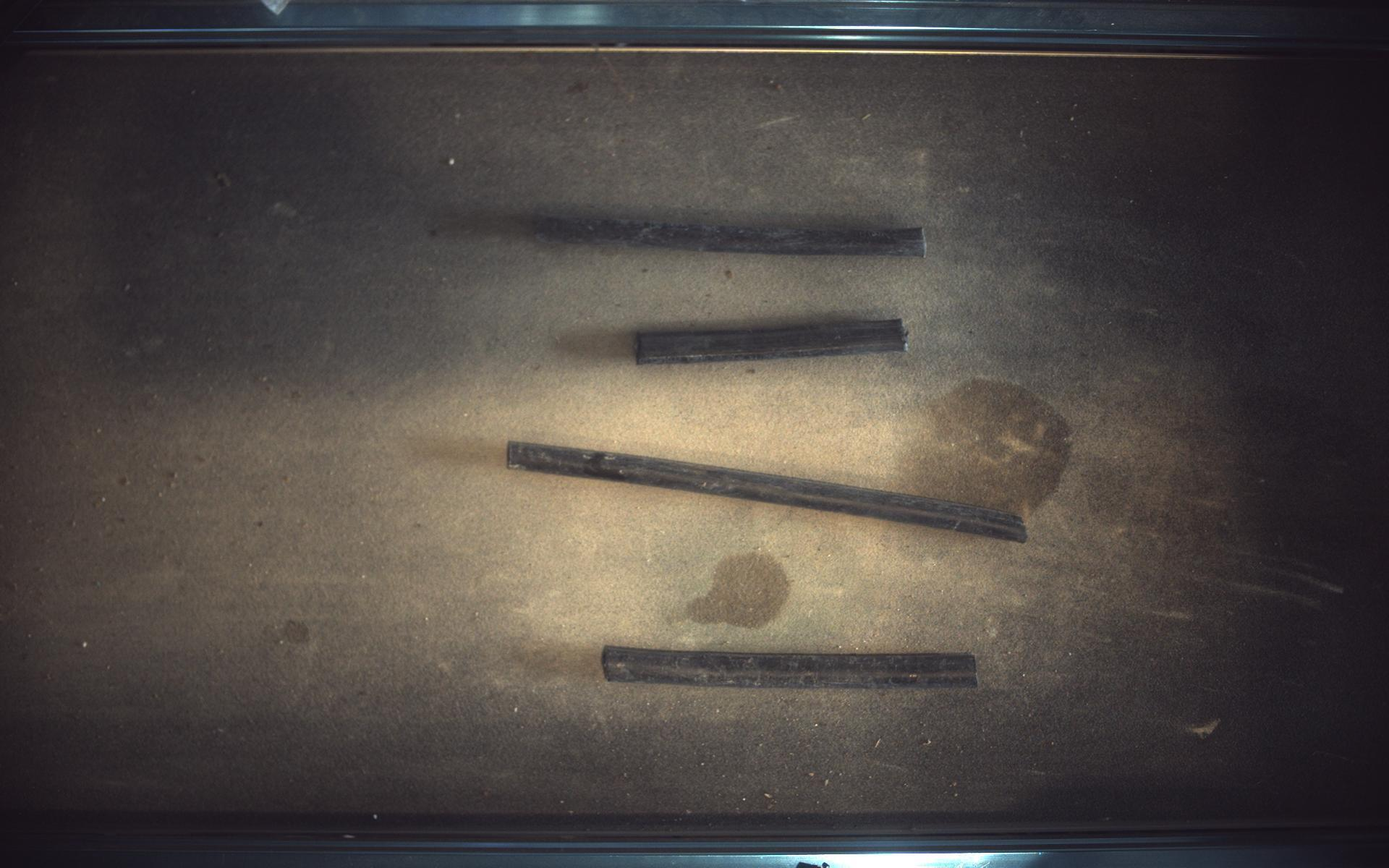pipes: (507, 441, 1029, 542), (603, 647, 980, 689), (535, 216, 927, 256), (638, 318, 909, 364)
